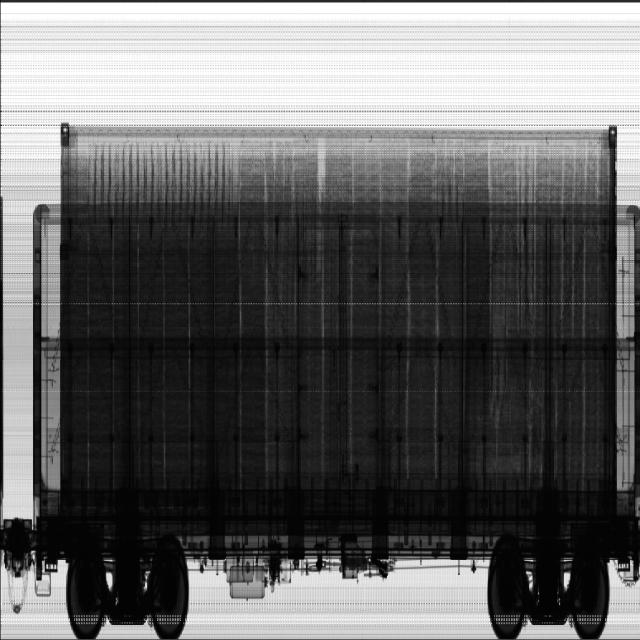shoes: (64, 146, 229, 500)
